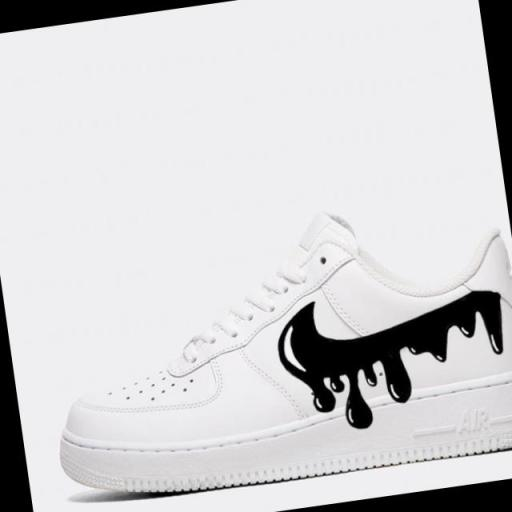Nike: (273, 284, 508, 386)
